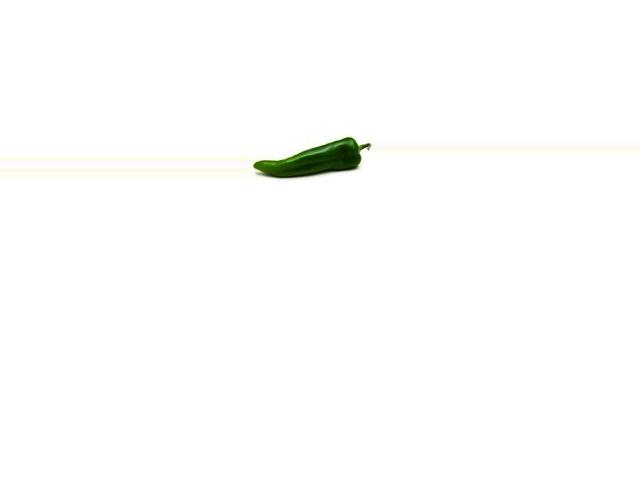bell_pepper: (253, 135, 375, 180)
